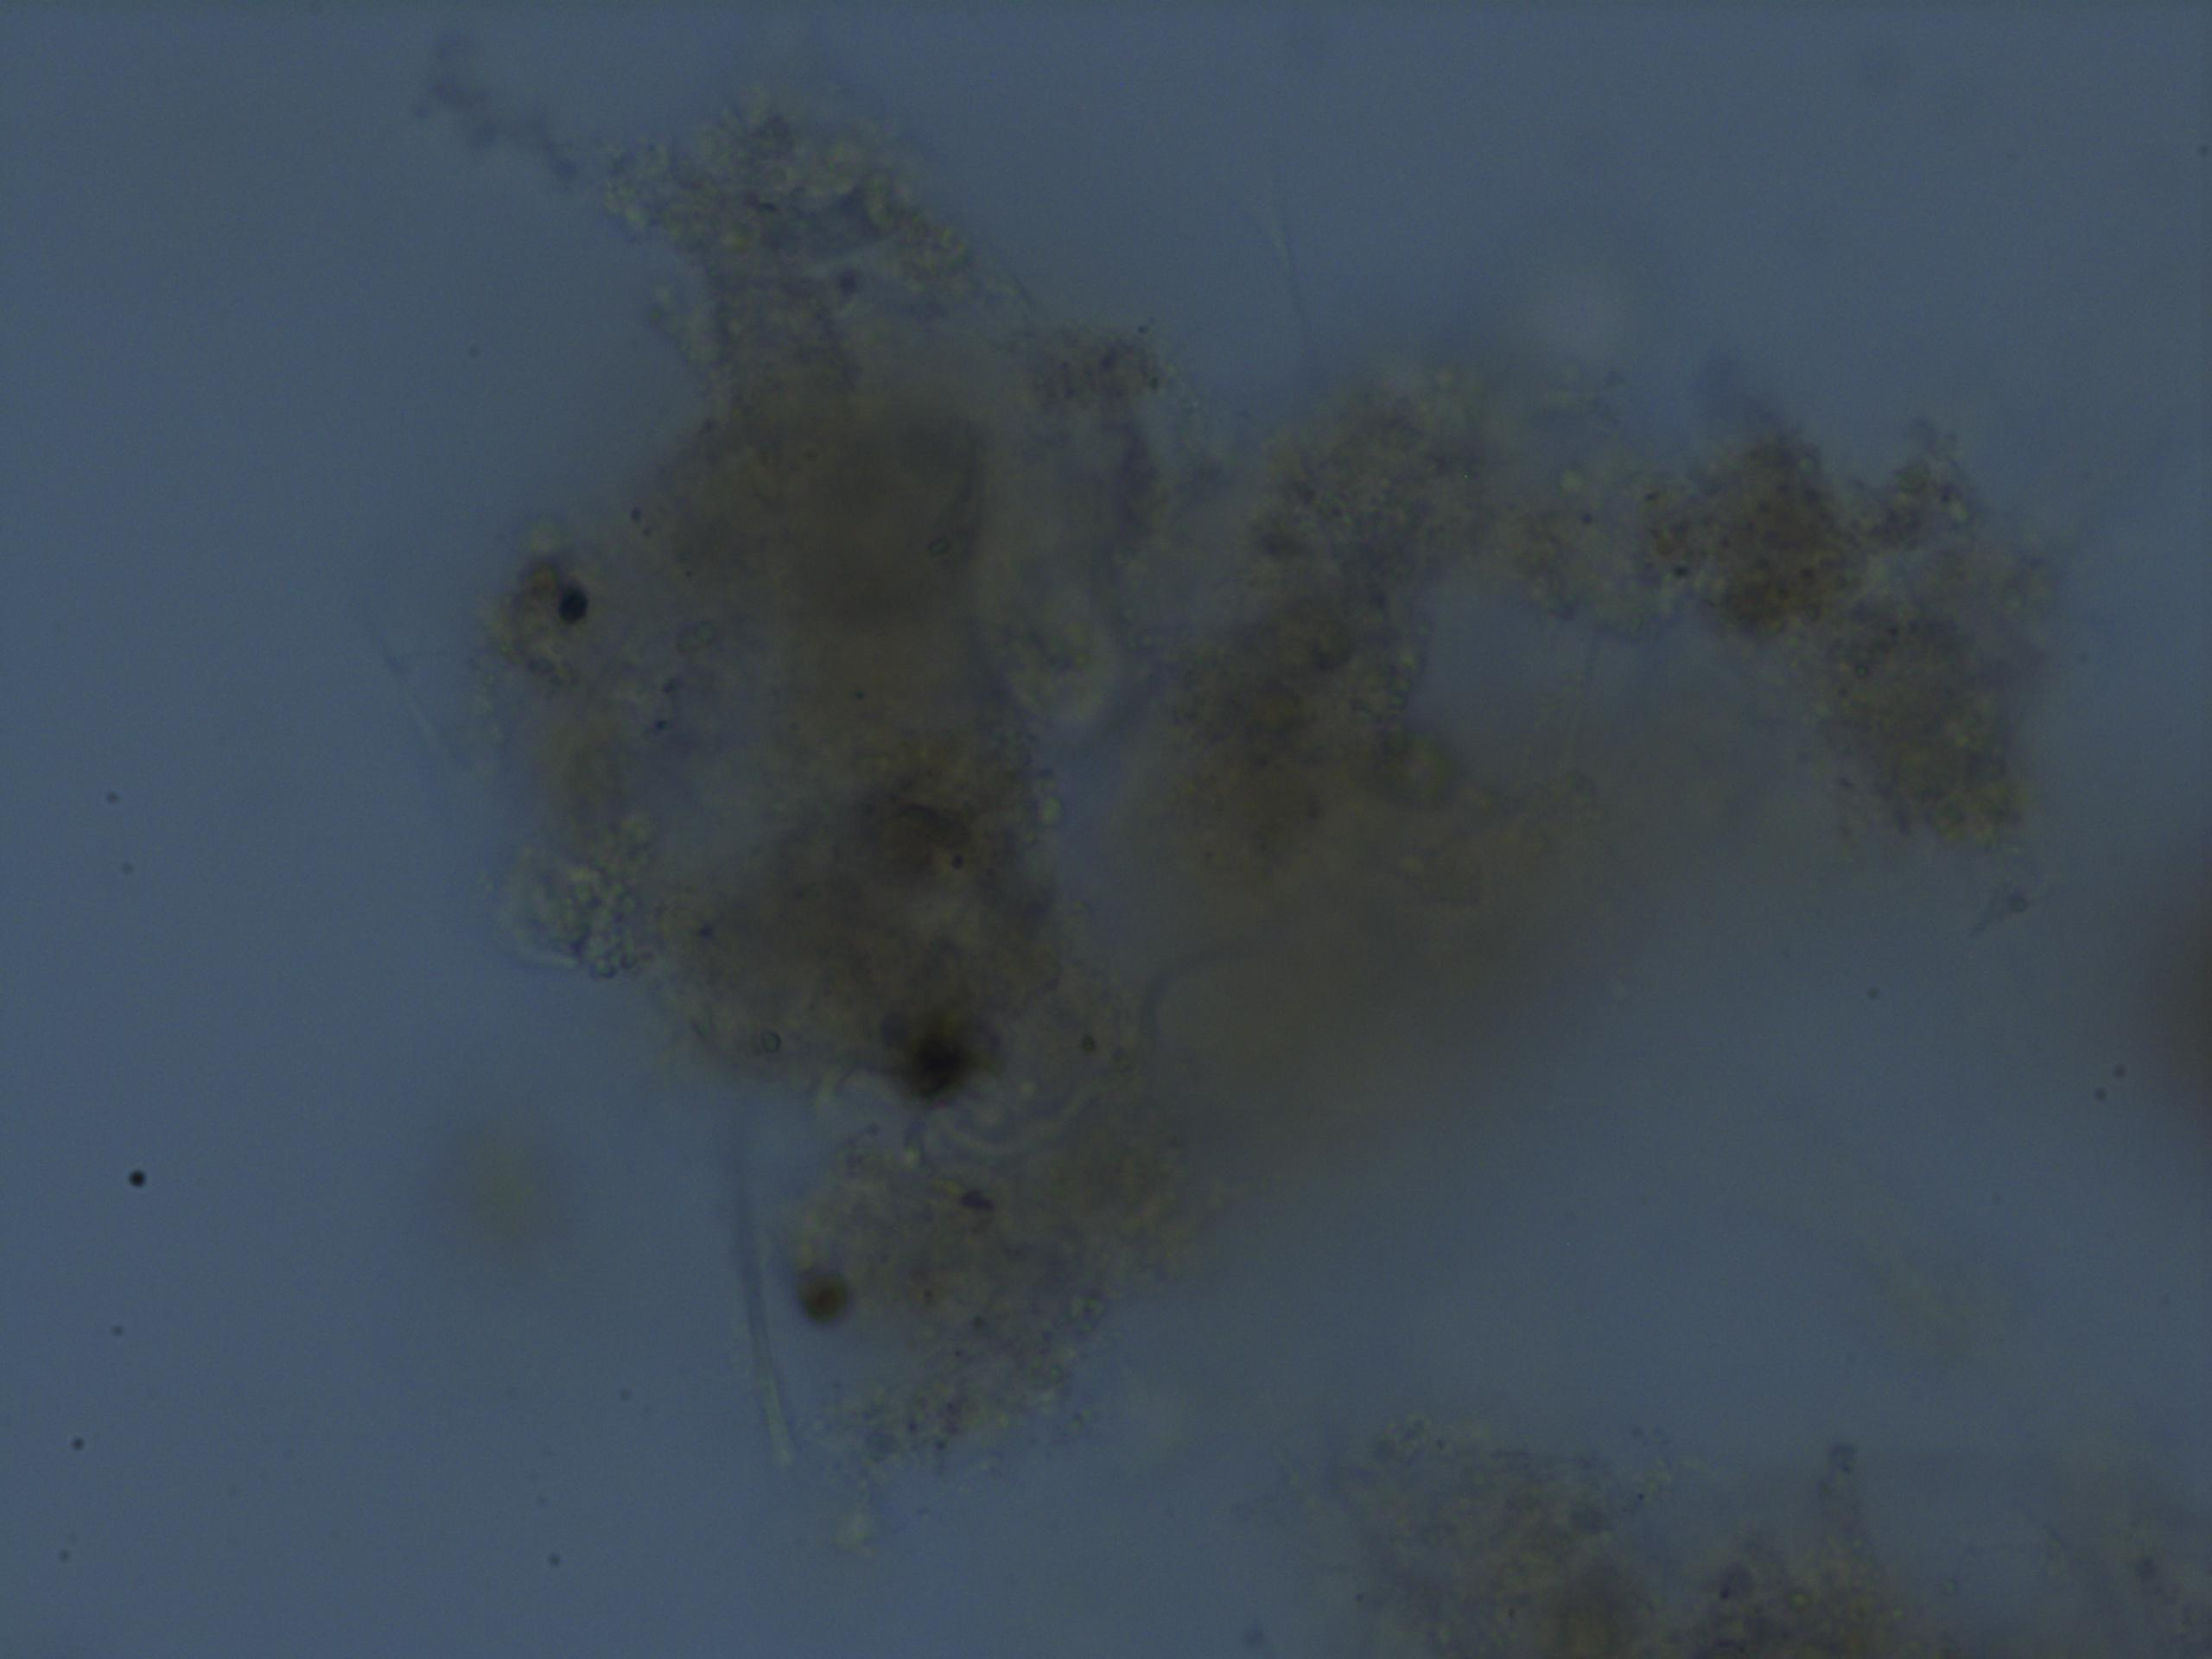filament: (679, 1061, 859, 1485)
open_floc: (409, 28, 2081, 1497)
